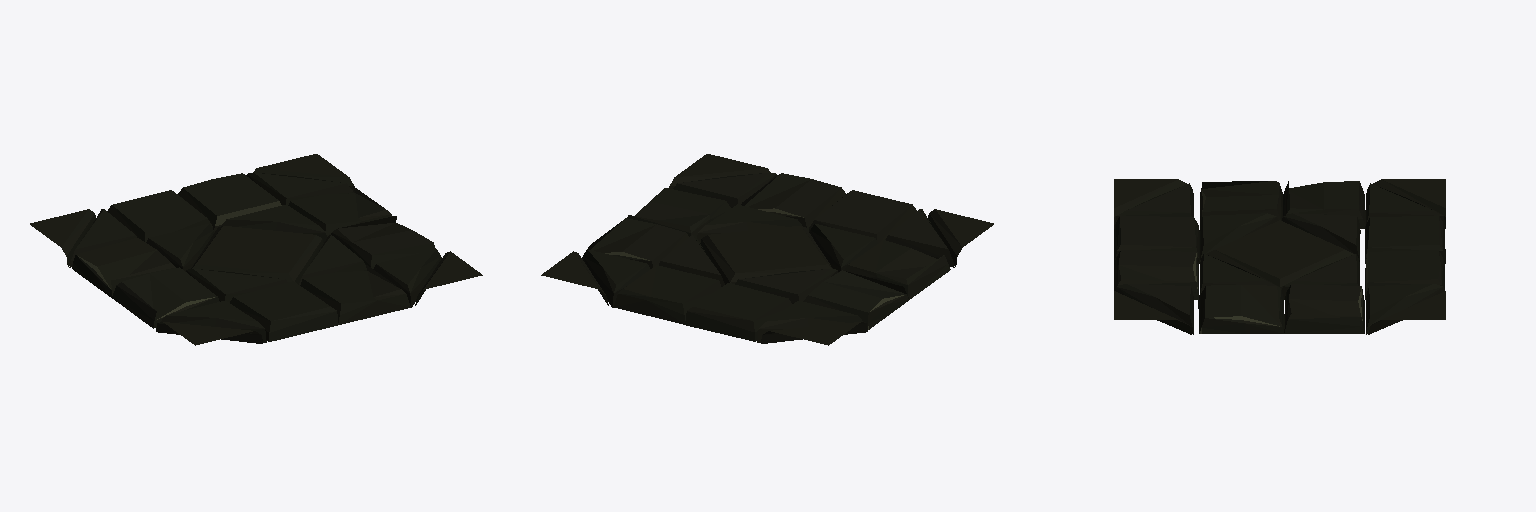
Rendered from Floor_Diamond.obj.
3 renders of one model, left to right at view 1: azimuth 30°, elevation 25°; view 2: azimuth 150°, elevation 25°; view 3: azimuth 270°, elevation 25°, orthographic.
Parts seen in each view (by area): view 1: Floor_Diamond_Cube.048; view 2: Floor_Diamond_Cube.048; view 3: Floor_Diamond_Cube.048.
Part boxes in pixels (left/top/right/bottom): Floor_Diamond_Cube.048: left=30, top=154, right=482, bottom=345; Floor_Diamond_Cube.048: left=541, top=154, right=993, bottom=345; Floor_Diamond_Cube.048: left=1114, top=179, right=1445, bottom=334.
Bounding box in the file's own units: 2 × 0.1183 × 2.